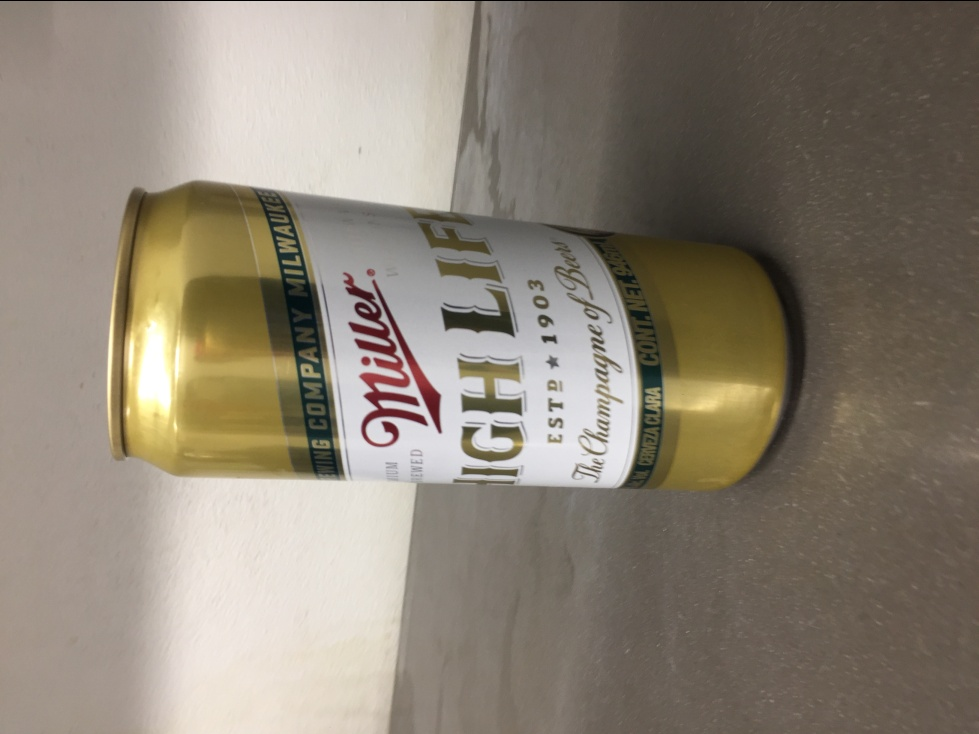miller: (103, 175, 797, 502)
